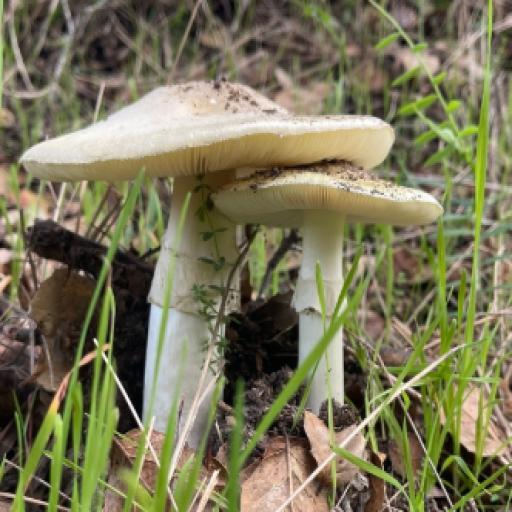mushroom: (9, 0, 498, 484)
